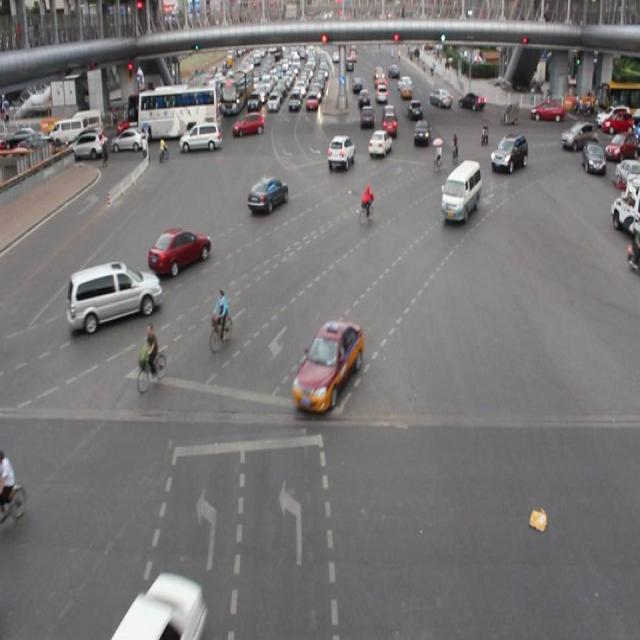car: (292, 320, 364, 414), (148, 222, 210, 277), (246, 174, 288, 215), (489, 133, 528, 174), (326, 136, 355, 172), (368, 128, 390, 156)
truck: (67, 258, 162, 328), (439, 159, 482, 225)
